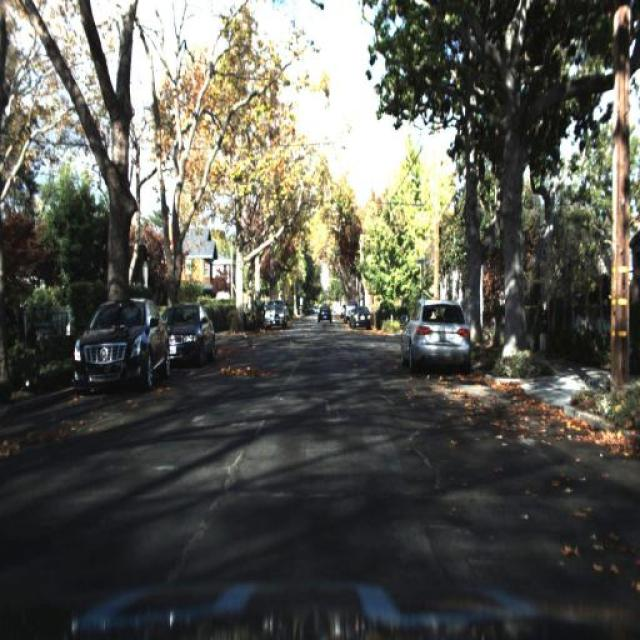car: (61, 288, 177, 404), (396, 286, 480, 383), (169, 289, 219, 386), (162, 298, 216, 369), (260, 296, 288, 332), (348, 299, 374, 333), (347, 304, 375, 335), (314, 300, 334, 326)
